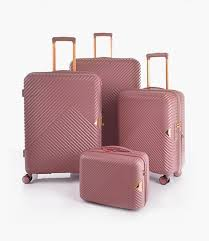suitcase: (23, 37, 102, 183), (115, 52, 186, 185), (69, 32, 142, 147), (77, 145, 149, 209)
